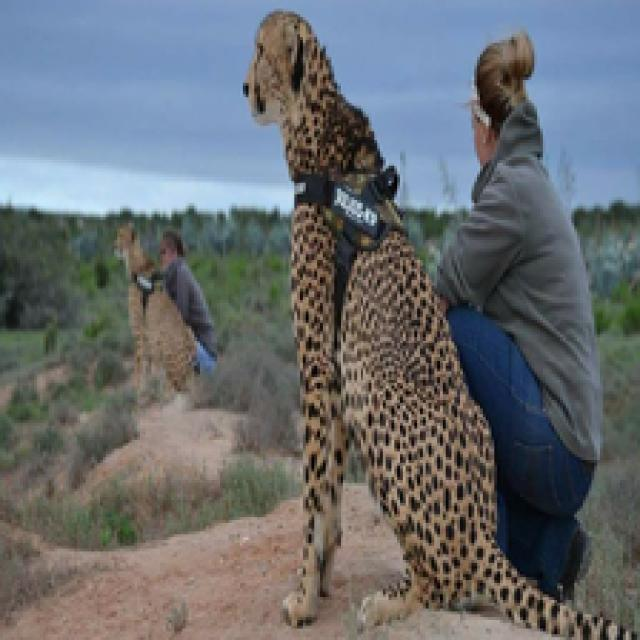cheetah: (226, 0, 511, 640), (82, 217, 189, 419)
